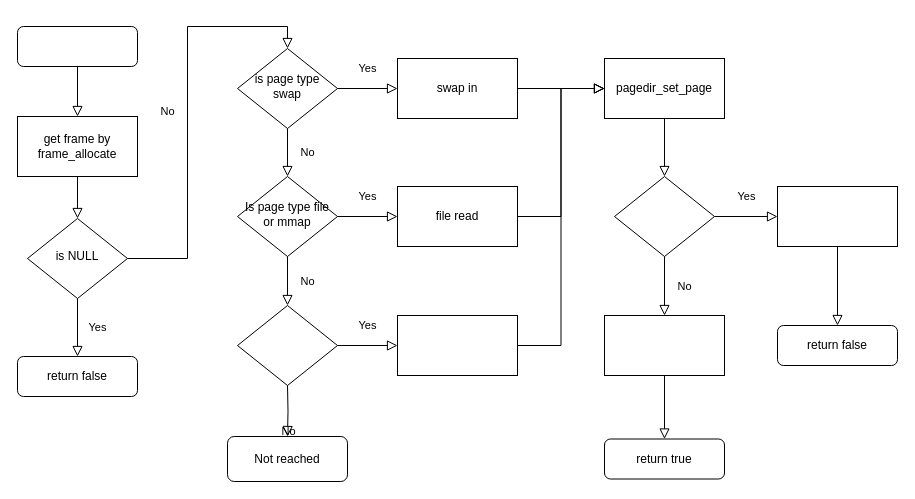
This 915x499 diagram has some shape labels left out. Here are the shapes that lost their labels. From the top down, the centre of each, then its label:
At [77,46]: "load".
At [664,216]: "is failed".
At [837,216]: "frame dellocate and free page".
At [287,345]: "is page type zero".
At [457,345]: "memset with 0".
At [664,345]: "register frame to frame table".
